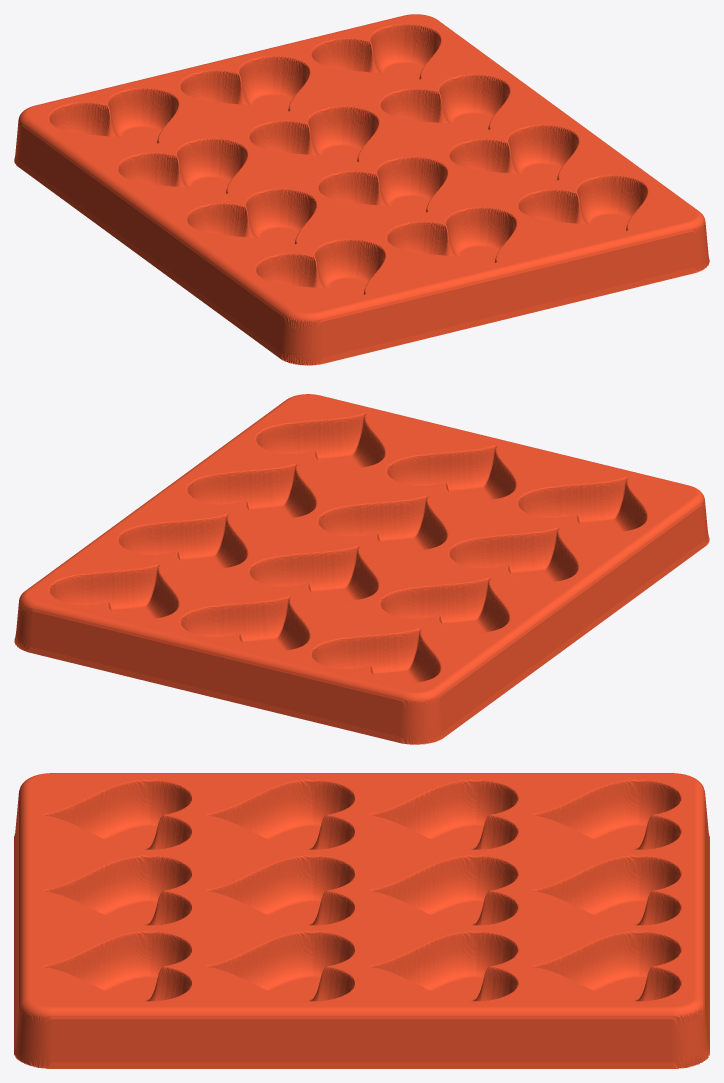
File: mold.glb
The picture shows the model from 3 angles, top to bottom: view 1: azimuth 30°, elevation 25°; view 2: azimuth 150°, elevation 25°; view 3: azimuth 270°, elevation 25°; orthographic projection. The views are drawn at different scales.
Parts seen in each view (by area): view 1: geometry_0; view 2: geometry_0; view 3: geometry_0.
Boxes of the visible parts, bbox=[...] form: geometry_0: bbox=[14, 14, 709, 365]; geometry_0: bbox=[14, 394, 709, 744]; geometry_0: bbox=[14, 773, 709, 1068].
Bounding box in the file's own units: 0.1374 × 0.0145 × 0.1645.
